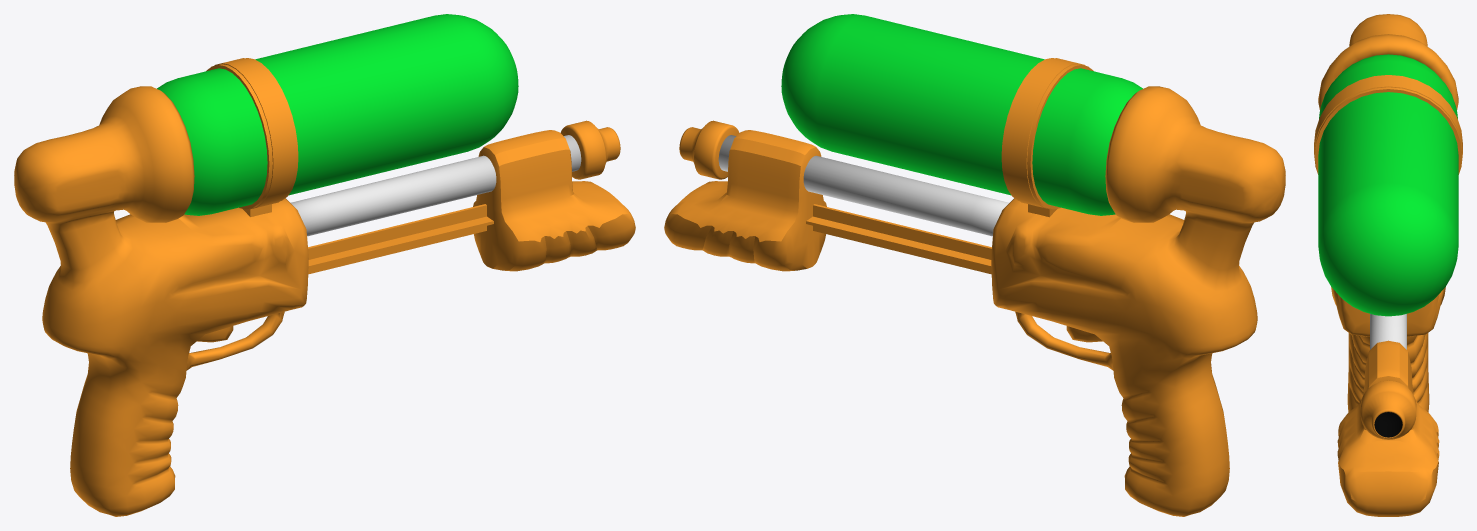
The model's file is SuperPortaller_v2.fbx.
3 views of the same model, side by side, from view 1: azimuth 30°, elevation 25°; view 2: azimuth 150°, elevation 25°; view 3: azimuth 270°, elevation 25° (orthographic).
Parts seen in each view (by area): view 1: gun, Sphere, Cube, tube, Cylinder.001, cocker, Cylinder; view 2: gun, Sphere, Cube, tube, Cylinder.001, cocker, Cylinder; view 3: Sphere, Cube, gun, Cylinder.001, Cylinder, tube.
Boxes of the visible parts, bbox=[...] form: gun: bbox=[14, 86, 308, 516]; Sphere: bbox=[157, 14, 518, 215]; Cube: bbox=[473, 130, 635, 271]; tube: bbox=[290, 135, 581, 236]; Cylinder.001: bbox=[206, 58, 298, 217]; cocker: bbox=[308, 204, 493, 274]; Cylinder: bbox=[560, 120, 620, 179]; gun: bbox=[991, 86, 1285, 516]; Sphere: bbox=[781, 14, 1142, 215]; Cube: bbox=[664, 130, 826, 271]; tube: bbox=[718, 135, 1009, 236]; Cylinder.001: bbox=[1001, 58, 1093, 217]; cocker: bbox=[806, 204, 991, 274]; Cylinder: bbox=[679, 120, 739, 179]; Sphere: bbox=[1318, 54, 1458, 316]; Cube: bbox=[1337, 340, 1439, 516]; gun: bbox=[1318, 14, 1458, 412]; Cylinder.001: bbox=[1314, 75, 1462, 174]; Cylinder: bbox=[1360, 380, 1416, 439]; tube: bbox=[1370, 314, 1406, 349].
Bounding box in the file's own units: 436 × 282 × 93.79.
